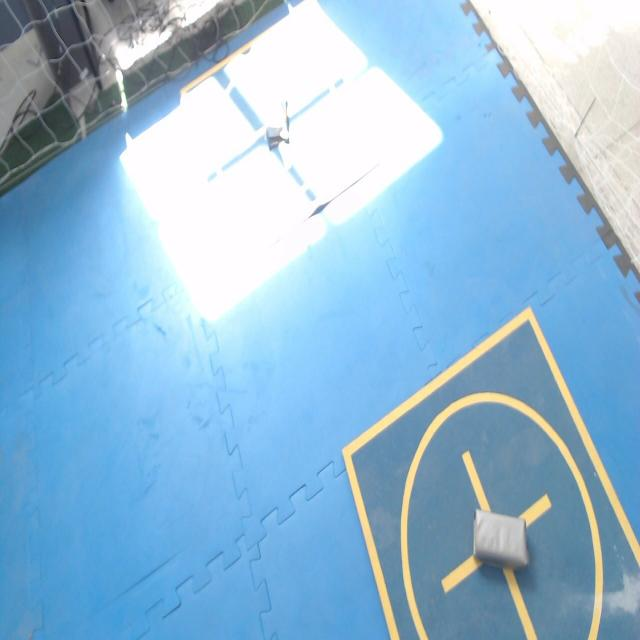lipo: (474, 508, 528, 568), (265, 100, 288, 148)
